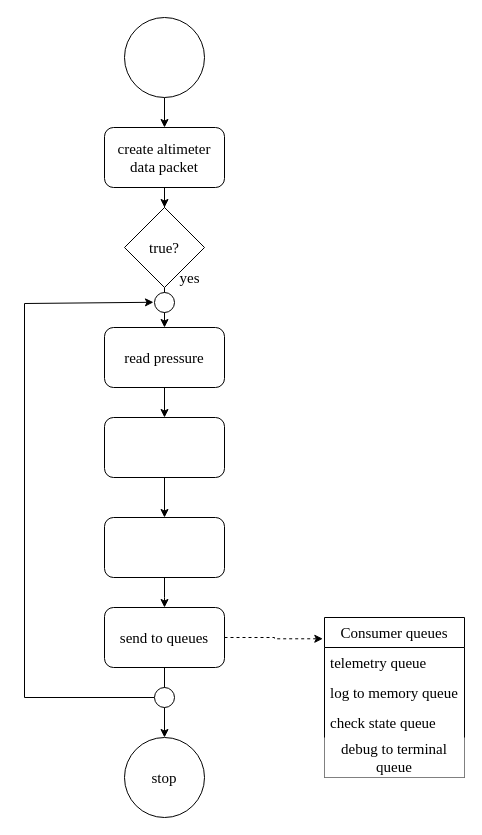
This 482x835 diagram has some shape labels left out. The shapes that lost their labels are listed below. From the top down, each one's centre as x and y in pixels, then its label:
At (164,57): "start".
At (164,447): "read altitude".
At (164,547): "estimate kalman filter altitude".
